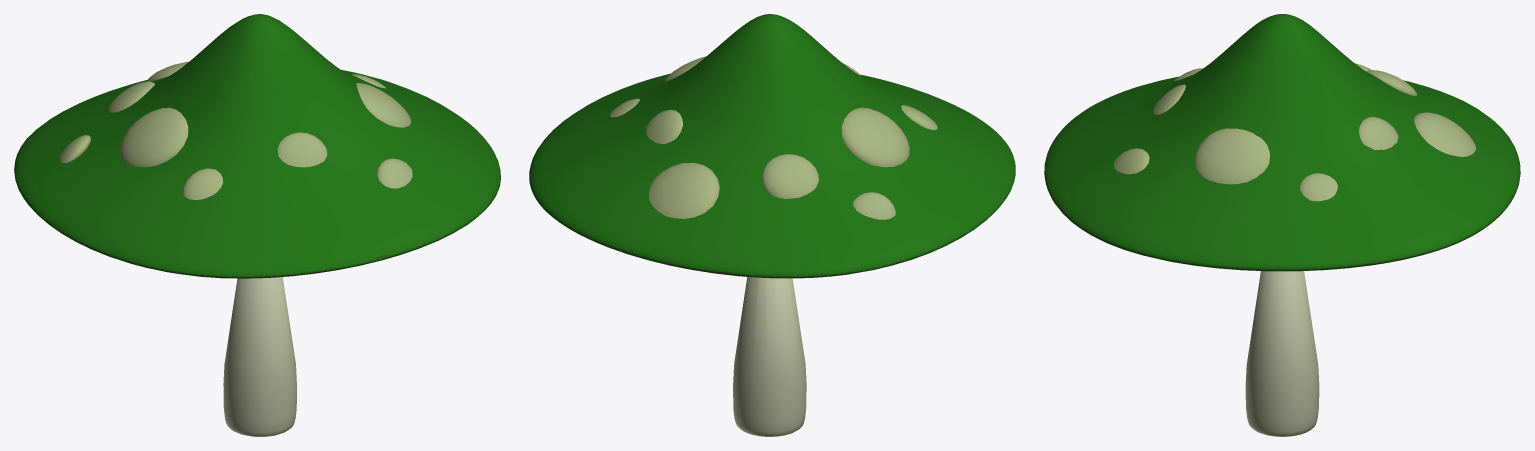
The model's file is mushroom.fbx.
3 renders of one model, left to right at view 1: azimuth 30°, elevation 25°; view 2: azimuth 150°, elevation 25°; view 3: azimuth 270°, elevation 25°, orthographic.
Visible parts, largest first — view 1: Sphere.003; view 2: Sphere.003; view 3: Sphere.003.
Part boxes in pixels (left/top/right/bottom): Sphere.003: left=14, top=14, right=500, bottom=436; Sphere.003: left=529, top=14, right=1015, bottom=436; Sphere.003: left=1044, top=14, right=1520, bottom=436.
Size of the model in its own units: 966 by 909 by 966.
